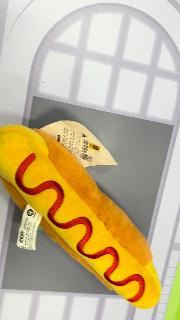hotdog: (0, 124, 162, 310)
